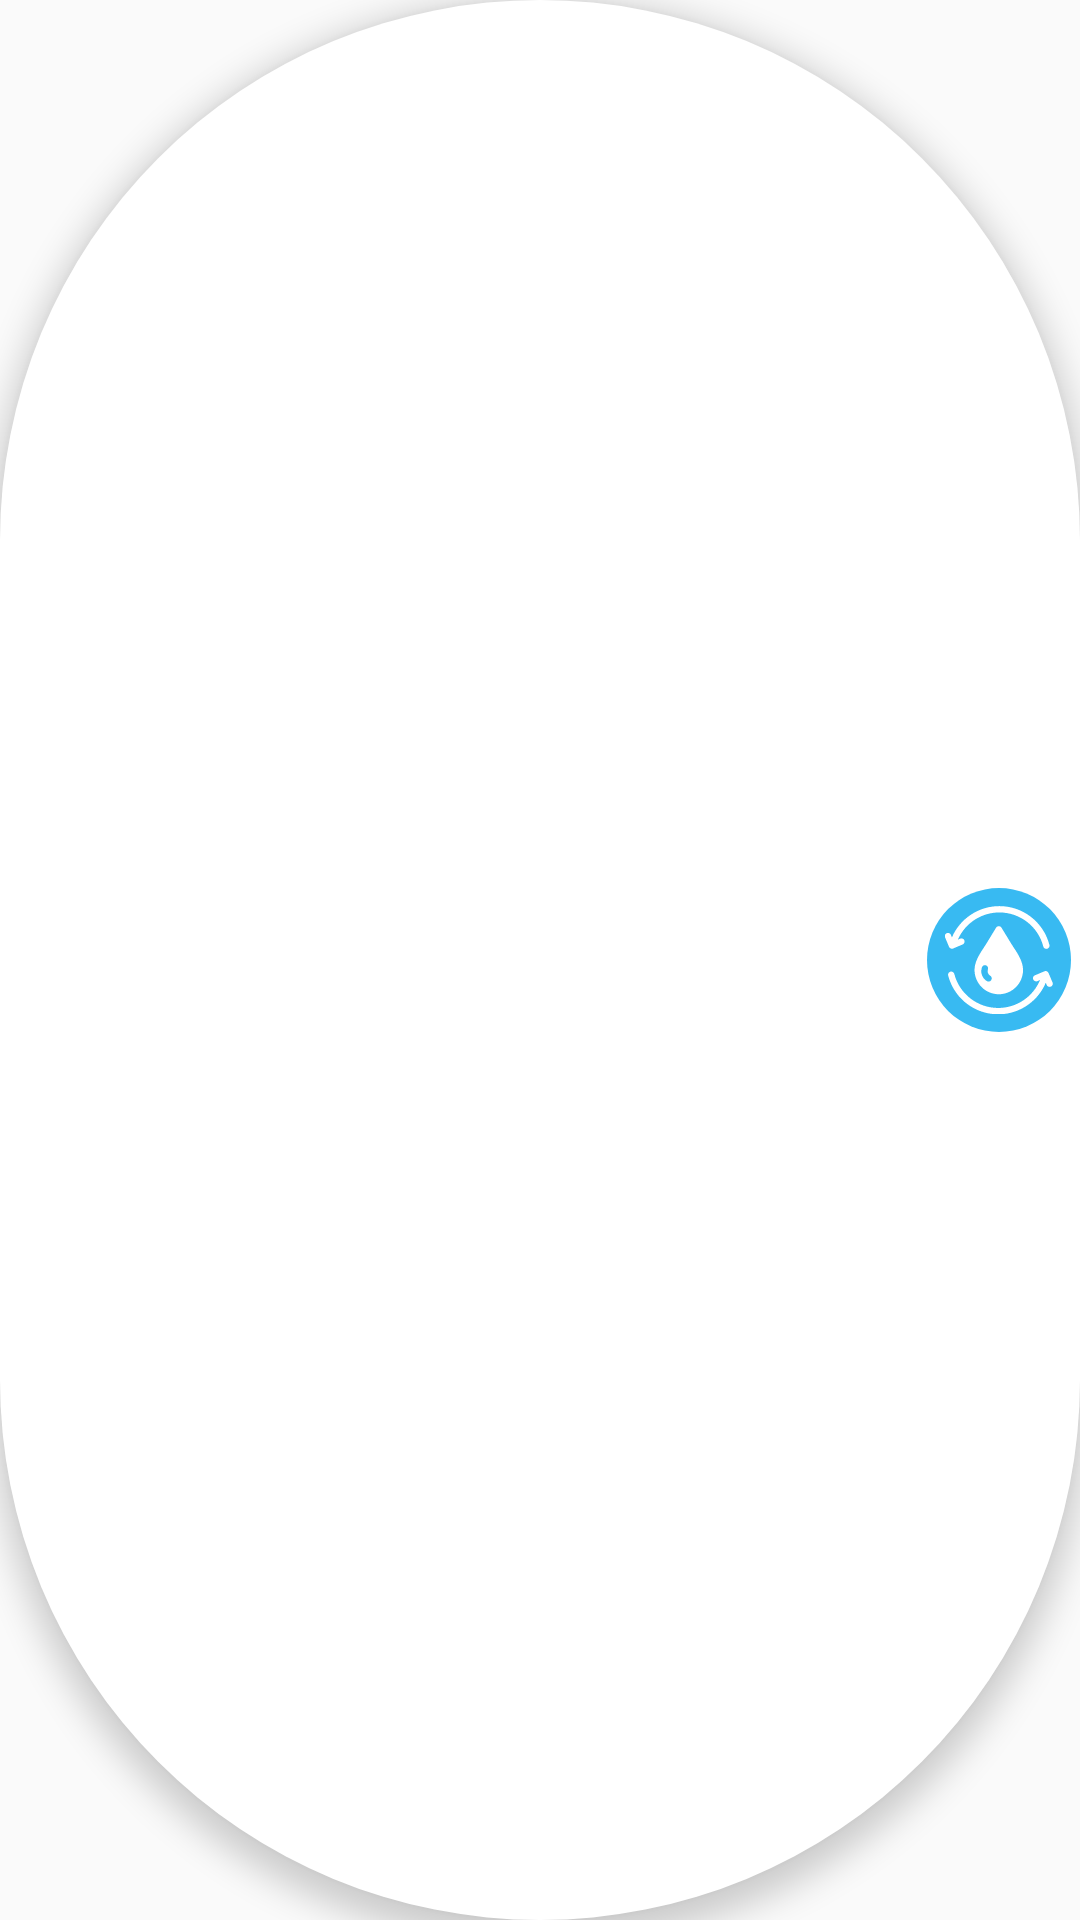

Named icons in this screenshot (1080 × 1920) and their bounding boxes, (x1, y1, x2, y2):
watering: (927, 888, 1071, 1032)
